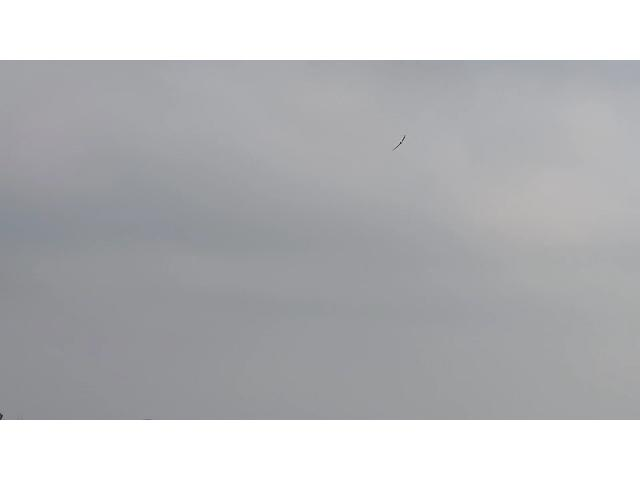Anti-Drone: (392, 135, 406, 151)
